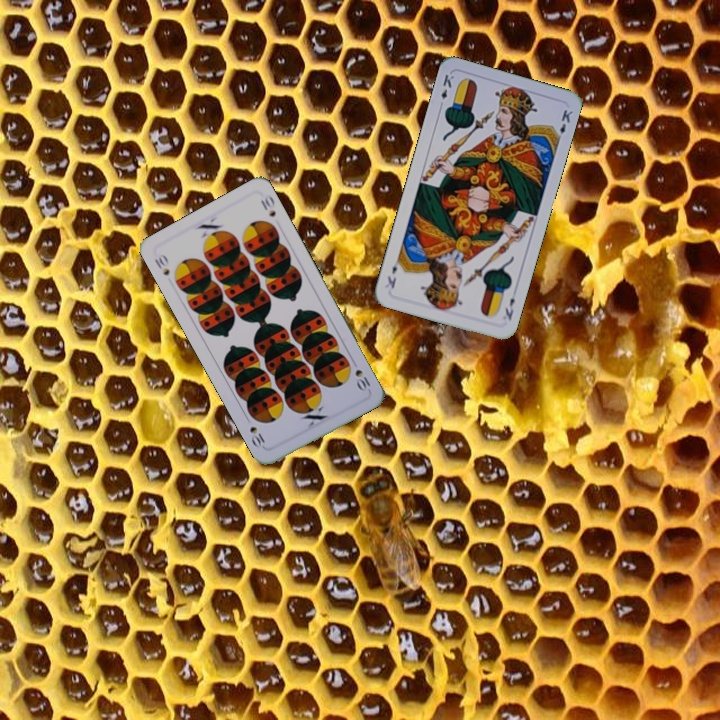EK: (435, 70, 457, 110), (501, 294, 517, 323)
S10: (351, 365, 374, 394), (151, 250, 172, 278)
